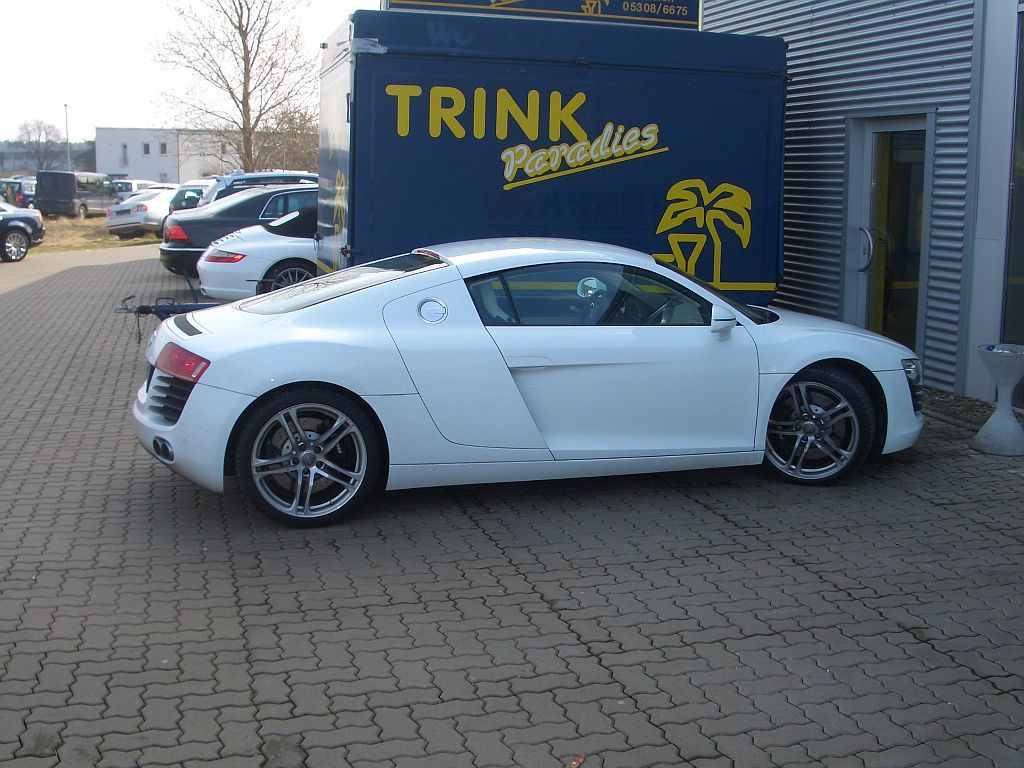Car: (124, 227, 931, 528), (156, 180, 327, 276), (193, 204, 318, 304), (33, 166, 126, 217), (197, 169, 325, 204), (103, 184, 174, 240), (0, 190, 46, 264), (0, 164, 35, 207), (165, 181, 202, 219), (110, 173, 149, 201), (7, 179, 33, 206), (0, 179, 19, 195)
